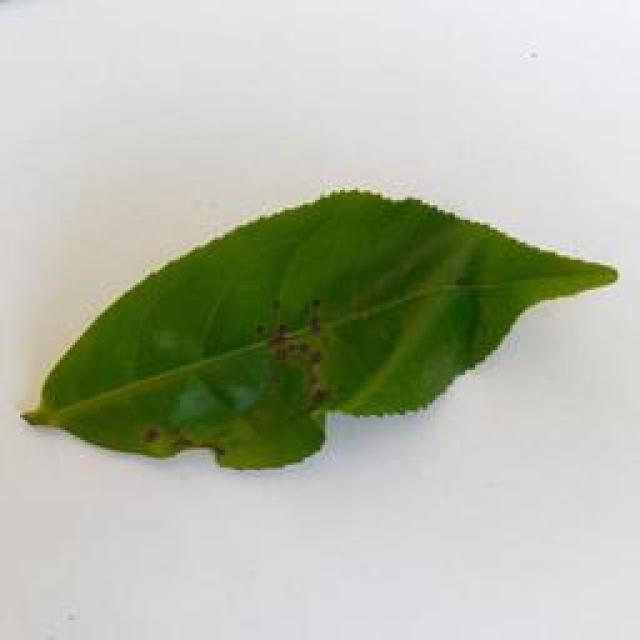Helopeltis: (22, 181, 625, 477)
